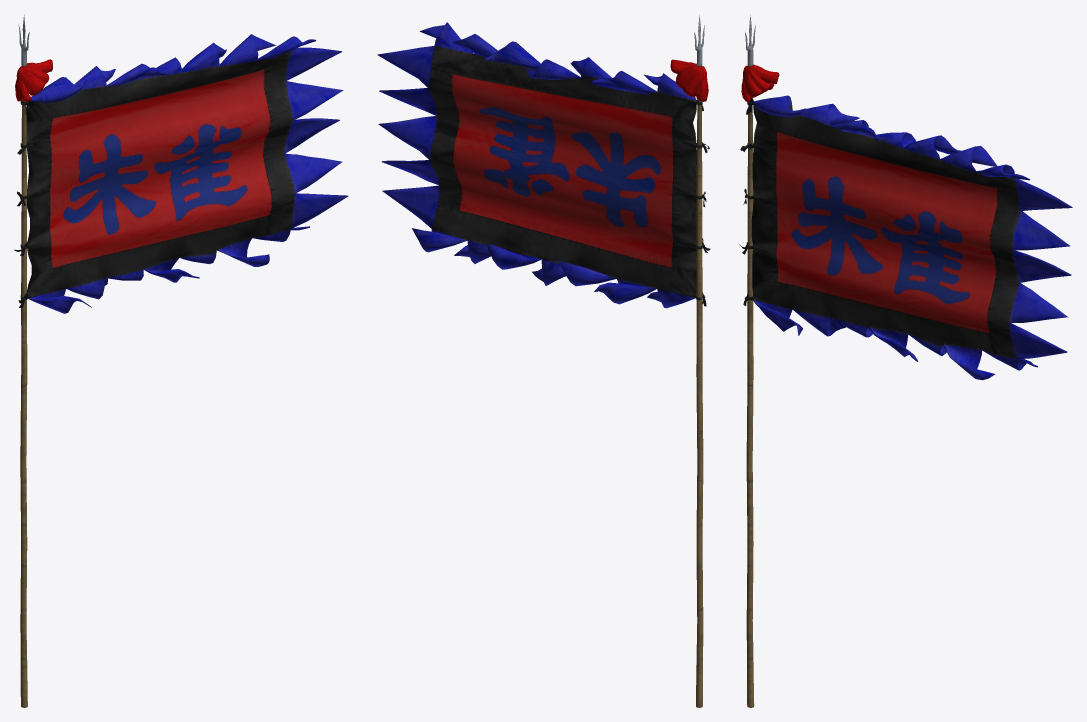
File: SM_JujaggiFlag.fbx
3 views of the same model, side by side, from view 1: azimuth 30°, elevation 25°; view 2: azimuth 150°, elevation 25°; view 3: azimuth 330°, elevation 25° (orthographic).
Parts seen in each view (by area): view 1: SM_JujaggiFlag_LOD0; view 2: SM_JujaggiFlag_LOD0; view 3: SM_JujaggiFlag_LOD0.
Part boxes in pixels (x1,y1,x2,y2): SM_JujaggiFlag_LOD0: [14, 14, 348, 707]; SM_JujaggiFlag_LOD0: [377, 15, 710, 707]; SM_JujaggiFlag_LOD0: [739, 14, 1072, 707].
Size of the model in its own units: 282 by 564 by 39.64.
Materials: 1 (1 with a texture image).
